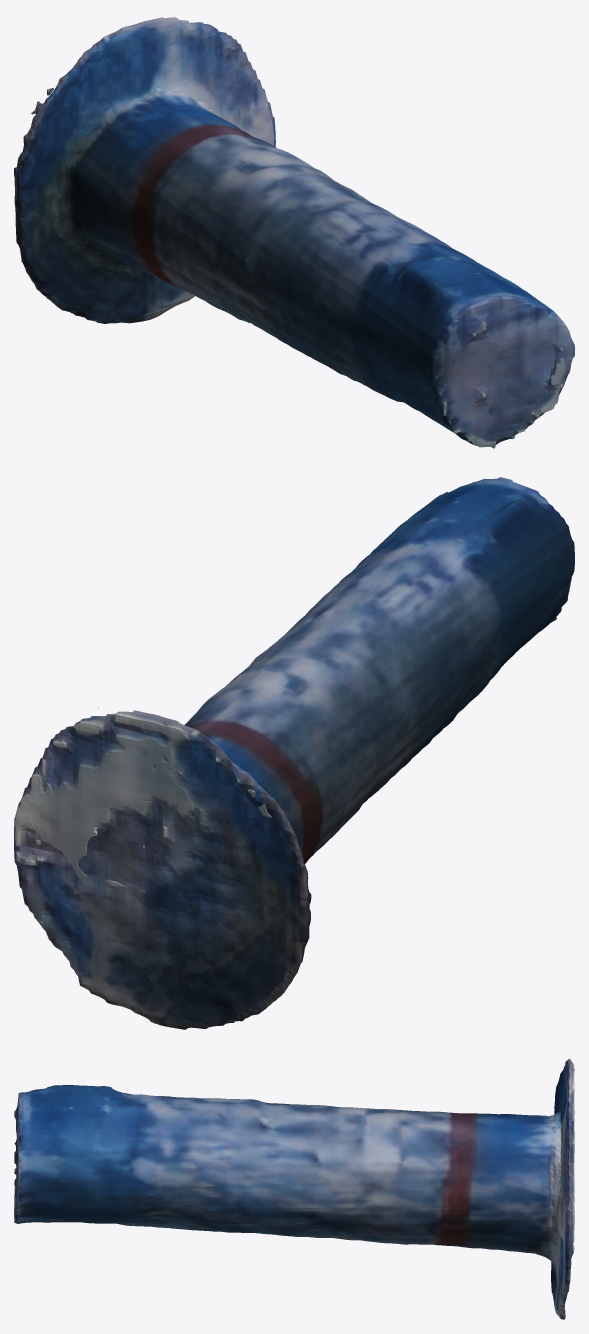
Rendered from 1_rgba.obj.
3 views of the same model, one above another, from view 1: azimuth 30°, elevation 25°; view 2: azimuth 150°, elevation 25°; view 3: azimuth 270°, elevation 25° (orthographic). The views are drawn at different scales.
Bounding box in the file's own units: 0.8939 × 0.9386 × 2.01.
Materials: 1 (1 with a texture image).
